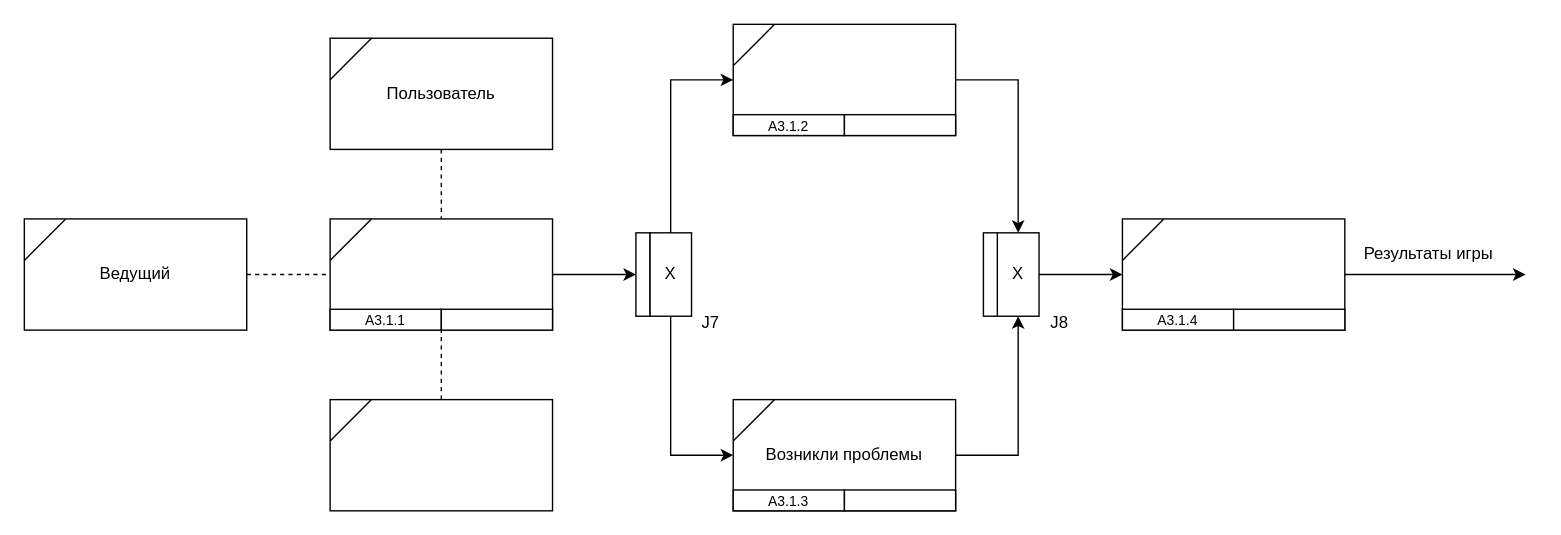
This 1561x535 diagram has some shape labels left out. Here are the shapes that lost their labels. From the top down, the box of each, then its label:
(732, 23, 956, 136): Игра завершена успешно
(329, 218, 553, 330): Проведение игры
(1121, 218, 1345, 330): Внесение результатов игры
(329, 398, 553, 511): Запись участника
